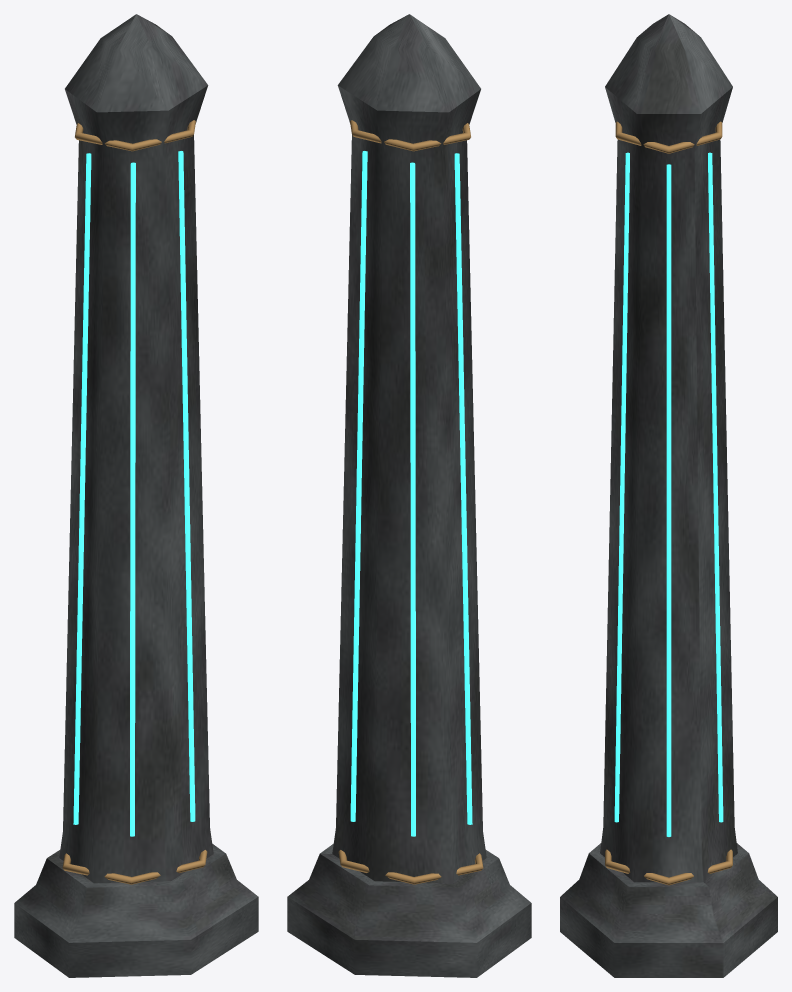
File: warp-pillar.glb
The picture shows the model from 3 angles, left to right: view 1: azimuth 30°, elevation 25°; view 2: azimuth 150°, elevation 25°; view 3: azimuth 270°, elevation 25°; orthographic projection.
Parts seen in each view (by area): view 1: warp-pillar; view 2: warp-pillar; view 3: warp-pillar.
Part boxes in pixels (box(x1,y1,x2,y2)): warp-pillar: box(14, 14, 258, 977); warp-pillar: box(287, 14, 531, 977); warp-pillar: box(560, 14, 777, 977).
Bounding box in the file's own units: 0.68 × 3.16 × 0.68.
Materials: 3 (1 with a texture image).
